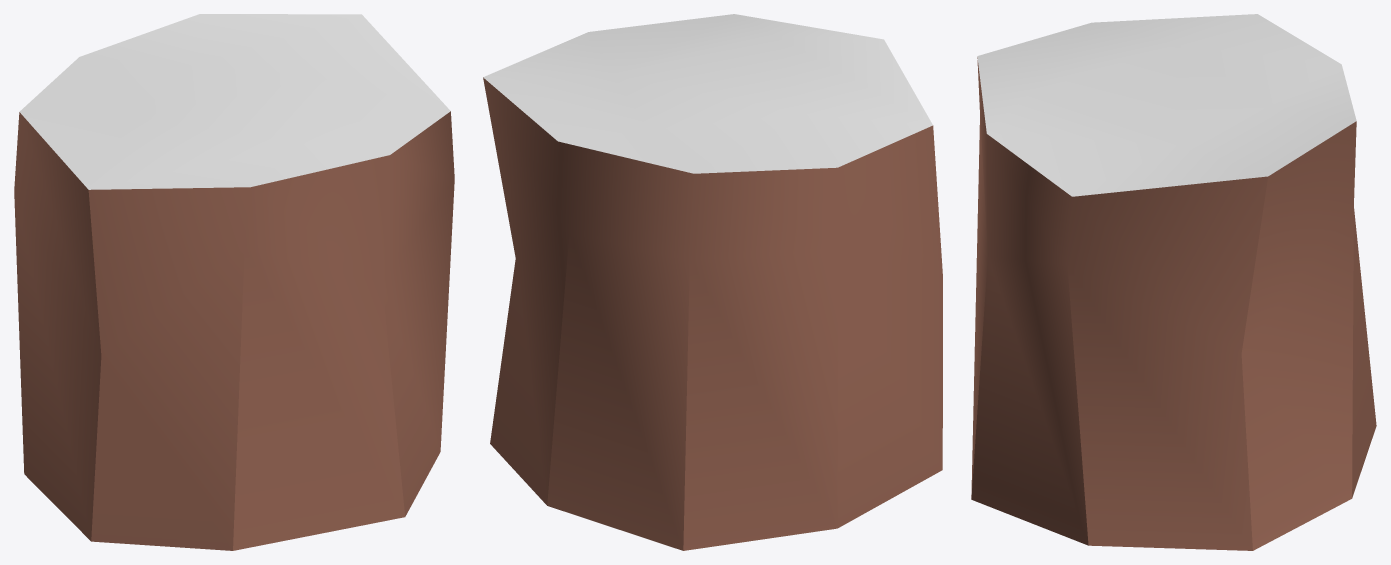
Rendered from SM_Cliff_A.fbx.
3 renders of one model, left to right at view 1: azimuth 30°, elevation 25°; view 2: azimuth 150°, elevation 25°; view 3: azimuth 270°, elevation 25°, orthographic.
Parts seen in each view (by area): view 1: Cube.037; view 2: Cube.037; view 3: Cube.037.
Part boxes in pixels (box(x1,y1,x2,y2)): Cube.037: box(14, 14, 454, 550); Cube.037: box(483, 14, 942, 550); Cube.037: box(971, 14, 1376, 550).
Bounding box in the file's own units: 1050 × 1019 × 1000.
